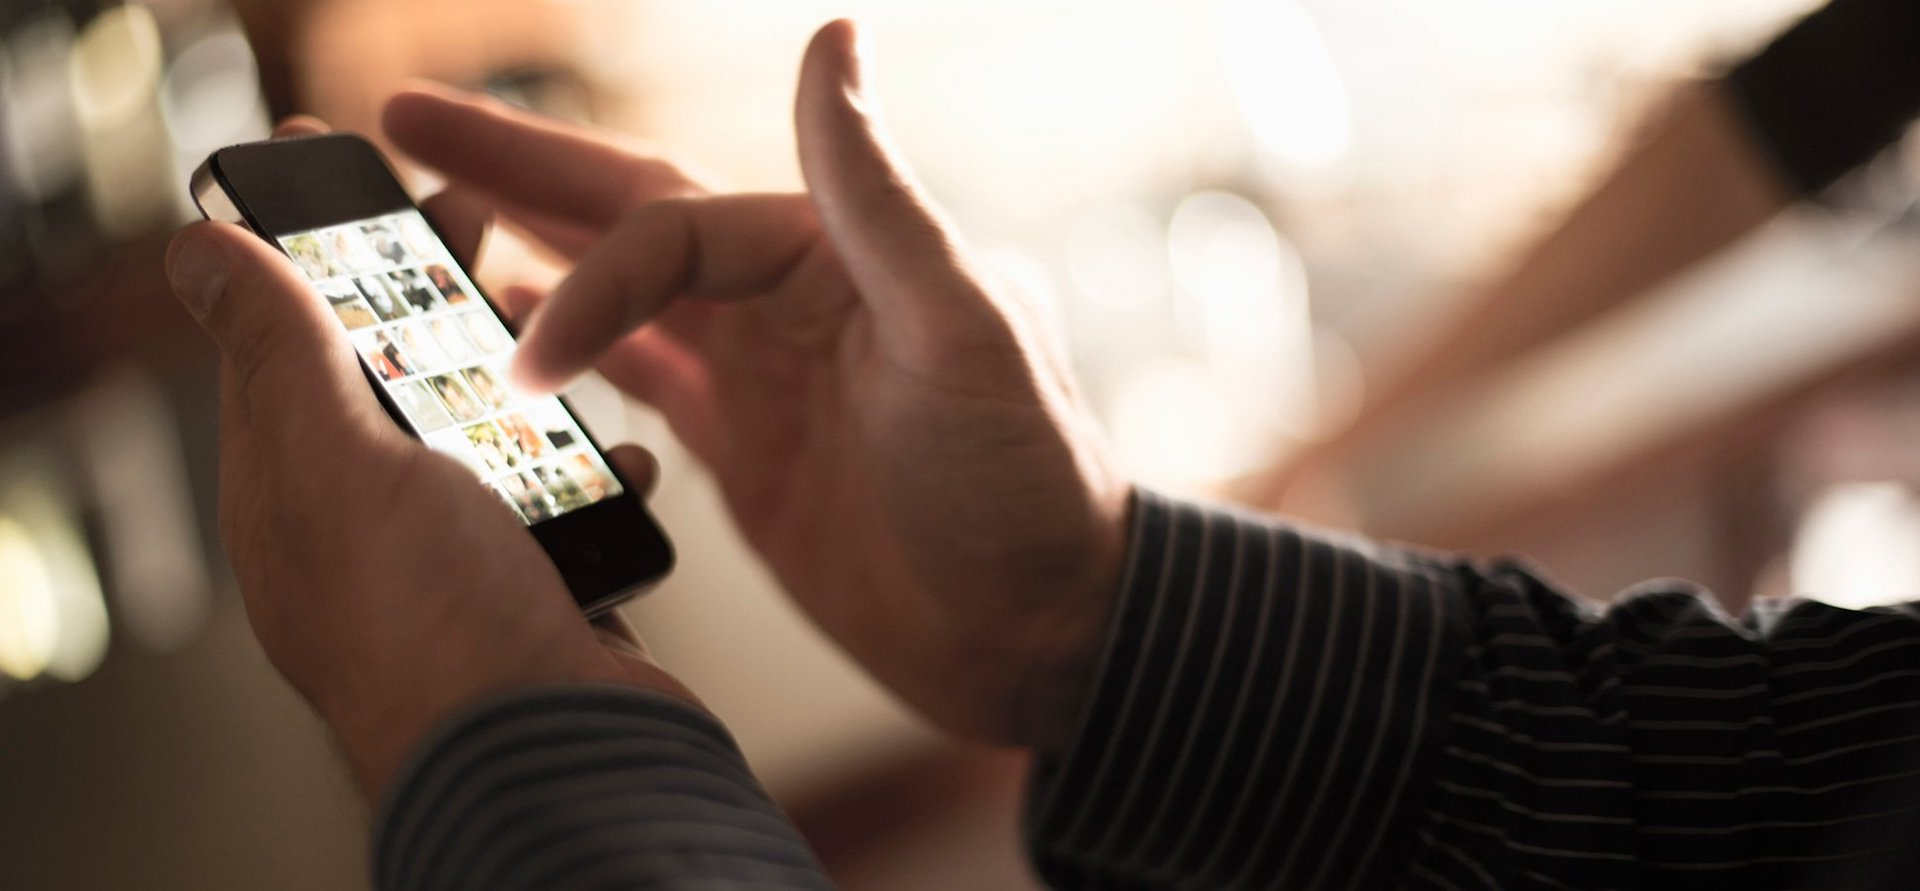smartphone: (189, 131, 681, 625)
